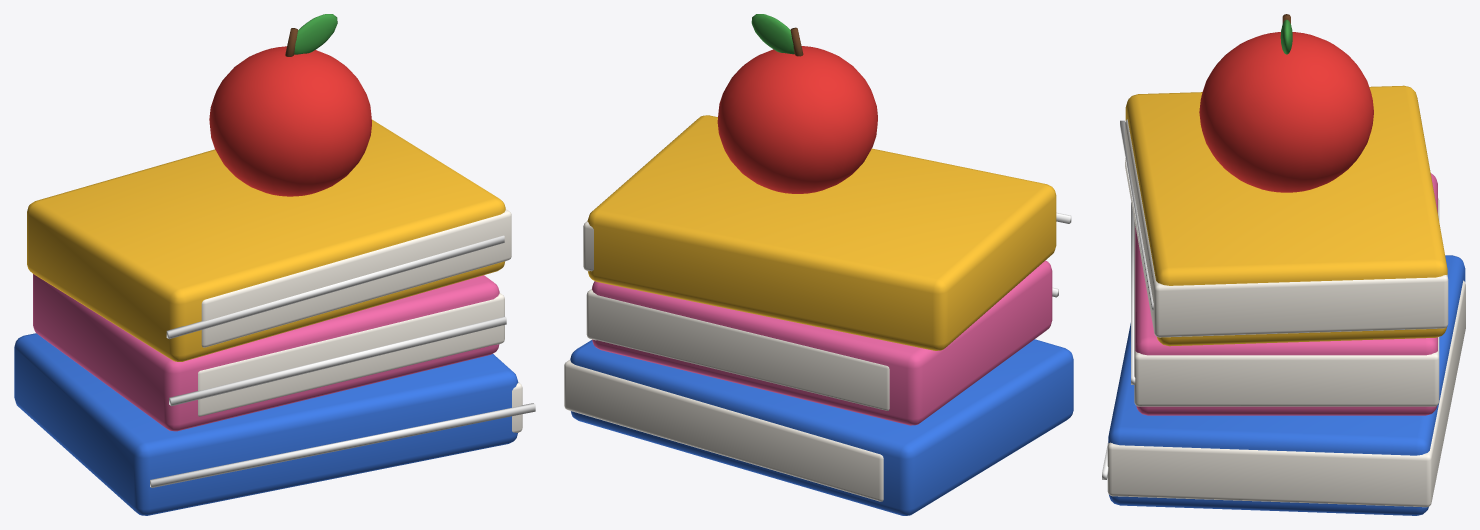
File: d-books.glb
3 renders of one model, left to right at view 1: azimuth 30°, elevation 25°; view 2: azimuth 150°, elevation 25°; view 3: azimuth 270°, elevation 25°, orthographic. The views are drawn at different scales.
Visible parts, largest first — view 1: d-books; view 2: d-books; view 3: d-books.
Part boxes in pixels (x1=…): d-books: x1=14, y1=14, x2=535, y2=515; d-books: x1=564, y1=14, x2=1073, y2=515; d-books: x1=1102, y1=14, x2=1465, y2=515.
Bounding box in the file's own units: 0.1431 × 0.14 × 0.1084.
